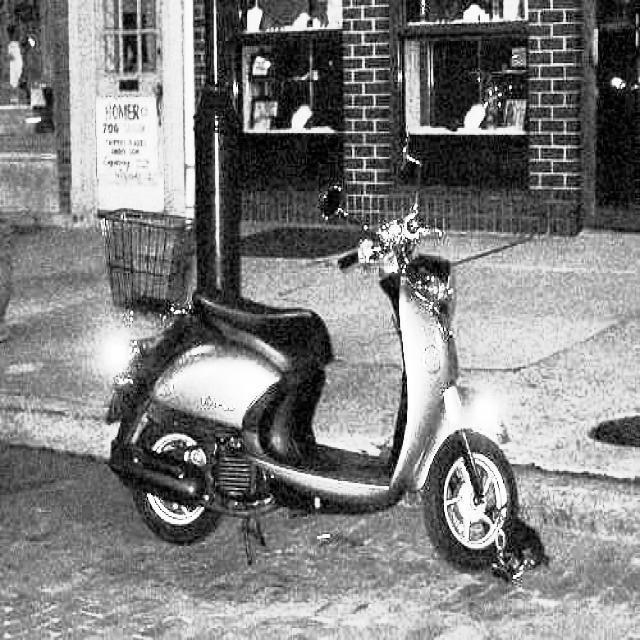Motorcycle: (105, 216, 534, 586)
